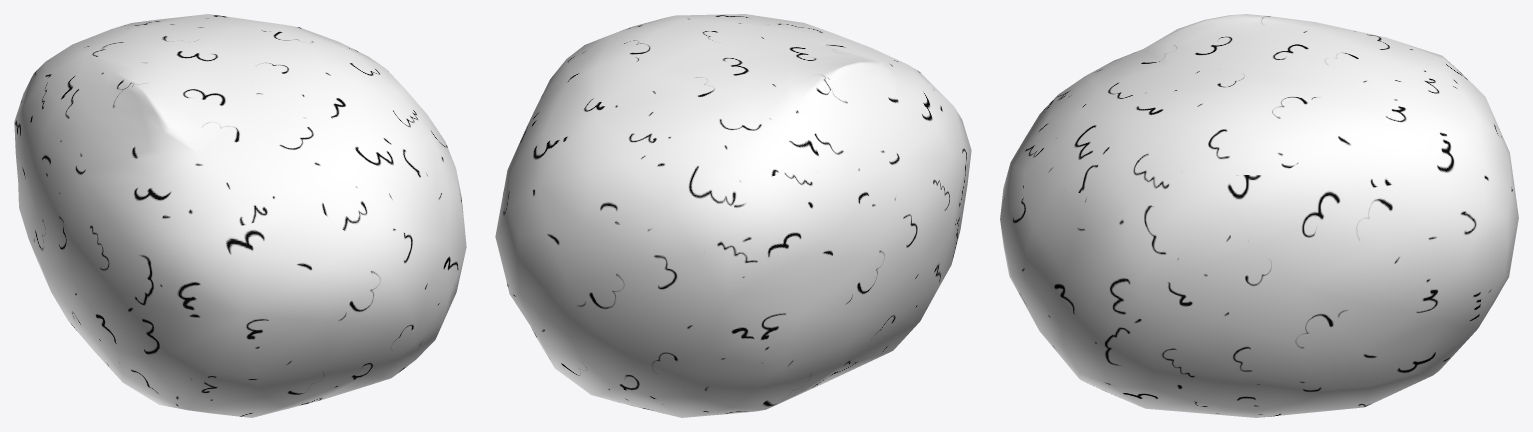
File: Arbusto.fbx
The picture shows the model from 3 angles, left to right: view 1: azimuth 30°, elevation 25°; view 2: azimuth 150°, elevation 25°; view 3: azimuth 270°, elevation 25°; orthographic projection. The views are drawn at different scales.
Parts seen in each view (by area): view 1: Icosphere; view 2: Icosphere; view 3: Icosphere.
Part boxes in pixels (x1=…): Icosphere: x1=14, y1=14, x2=466, y2=417; Icosphere: x1=495, y1=14, x2=971, y2=417; Icosphere: x1=1000, y1=14, x2=1518, y2=417.
Bounding box in the file's own units: 2.17 × 1.78 × 2.67.
